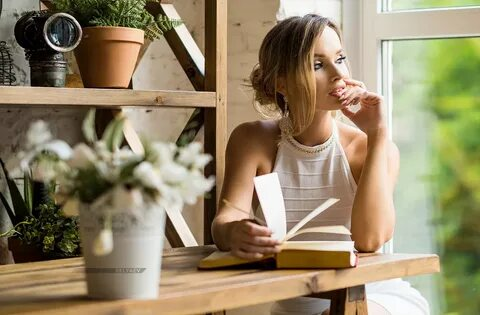awake: (210, 12, 401, 260)
